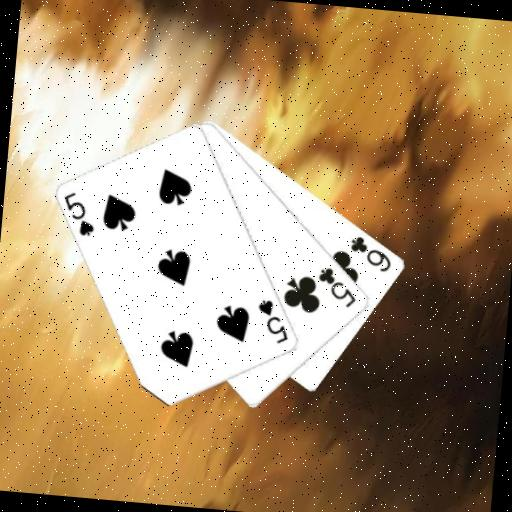5C: (313, 263, 362, 310)
5S: (253, 295, 294, 346), (59, 189, 100, 240)
6C: (346, 232, 396, 274)
